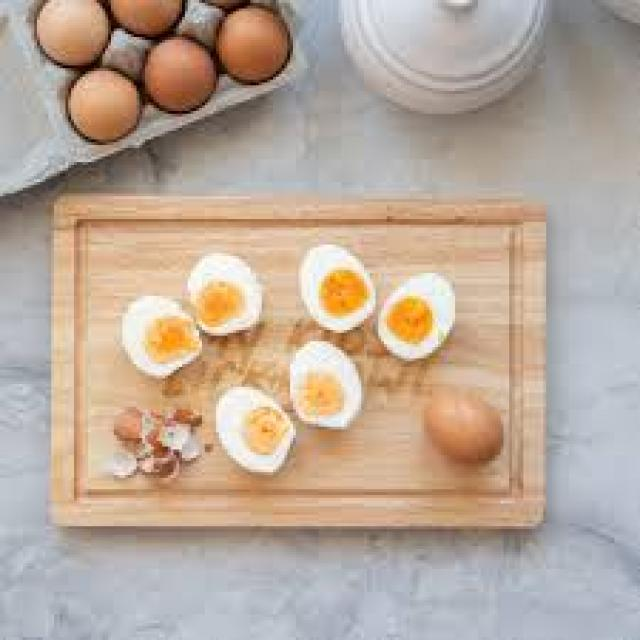boiled egg: (125, 220, 457, 495), (424, 387, 503, 466)
